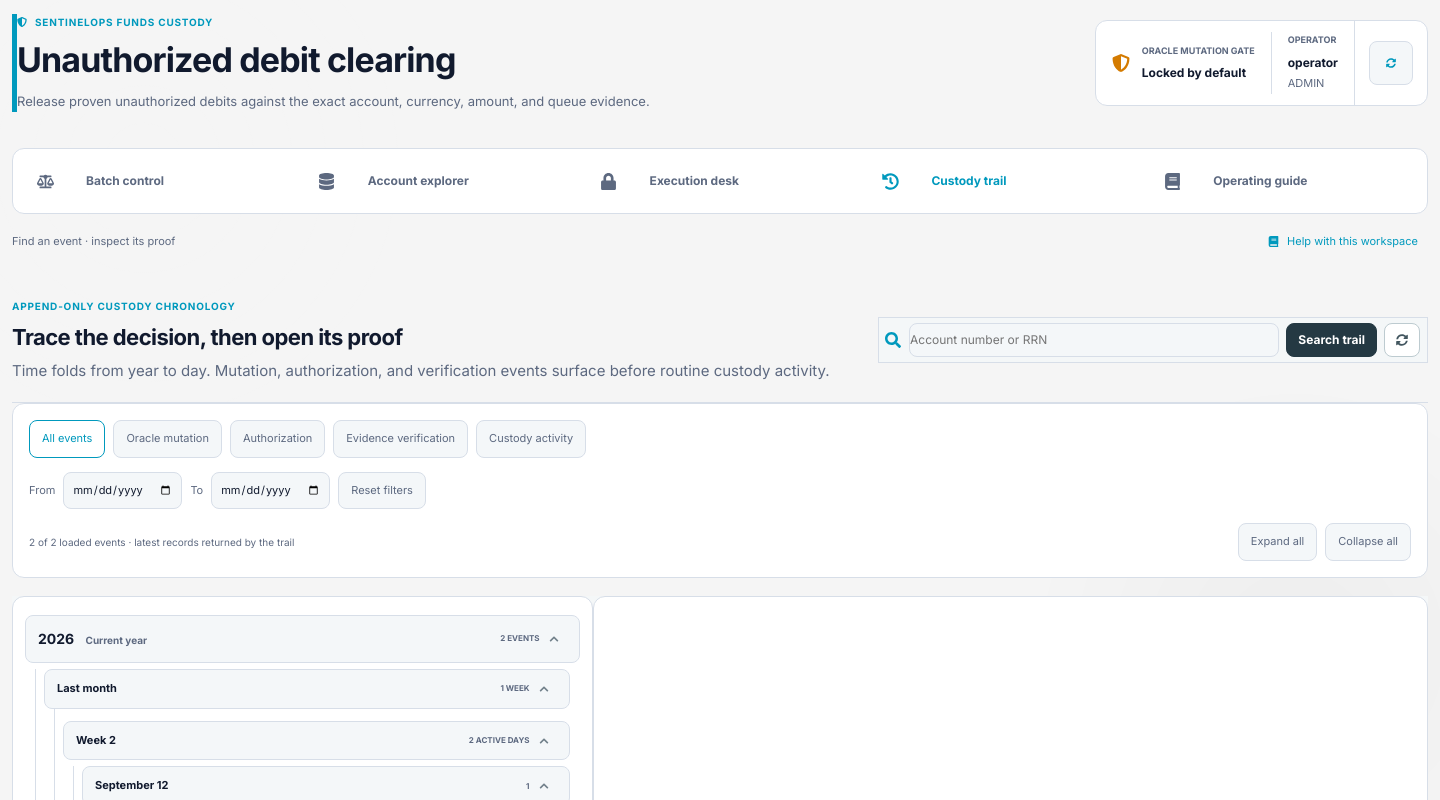
Scenario: trail filters loaded events by category and inclusive local date without reloading or mutating custody
This screenshot has width=1440, height=800.
Expected: the text "2 of 2 loaded events · latest records returned by the trail" is shown, [29, 534, 294, 550]
Click the button "Oracle mutation" at (168, 439), box [113, 420, 222, 458]
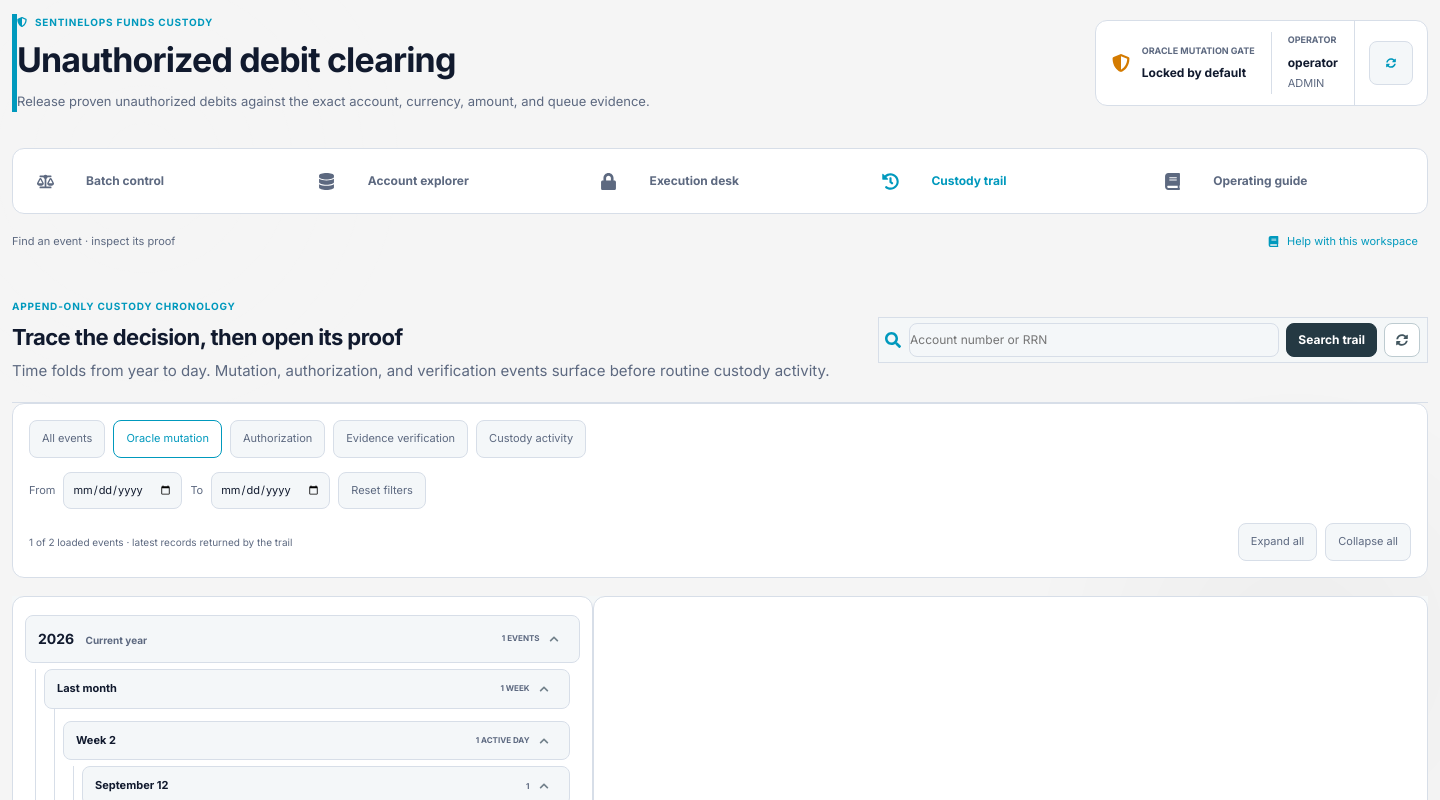
Expected: the text "1 of 2 loaded events · latest records returned by the trail" is shown, [29, 534, 292, 550]
Type "2026-09-13" into the date field named "Trail from date" at (123, 490), box [63, 472, 182, 509]
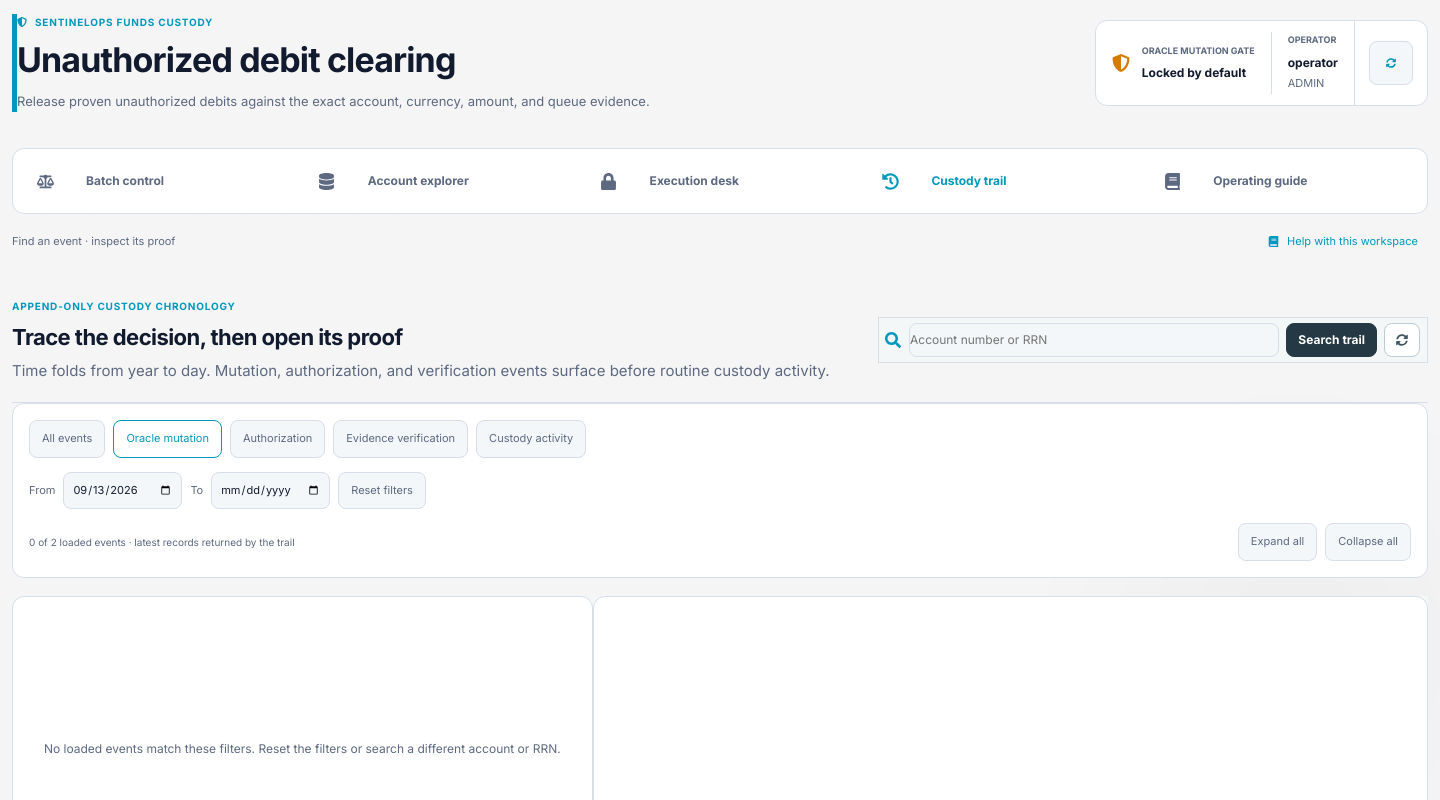
Expected: the text "No loaded events match" is shown, [44, 741, 561, 756]
Type "2026-09-12" into the date field named "Trail from date" at (123, 490), box [63, 472, 182, 509]
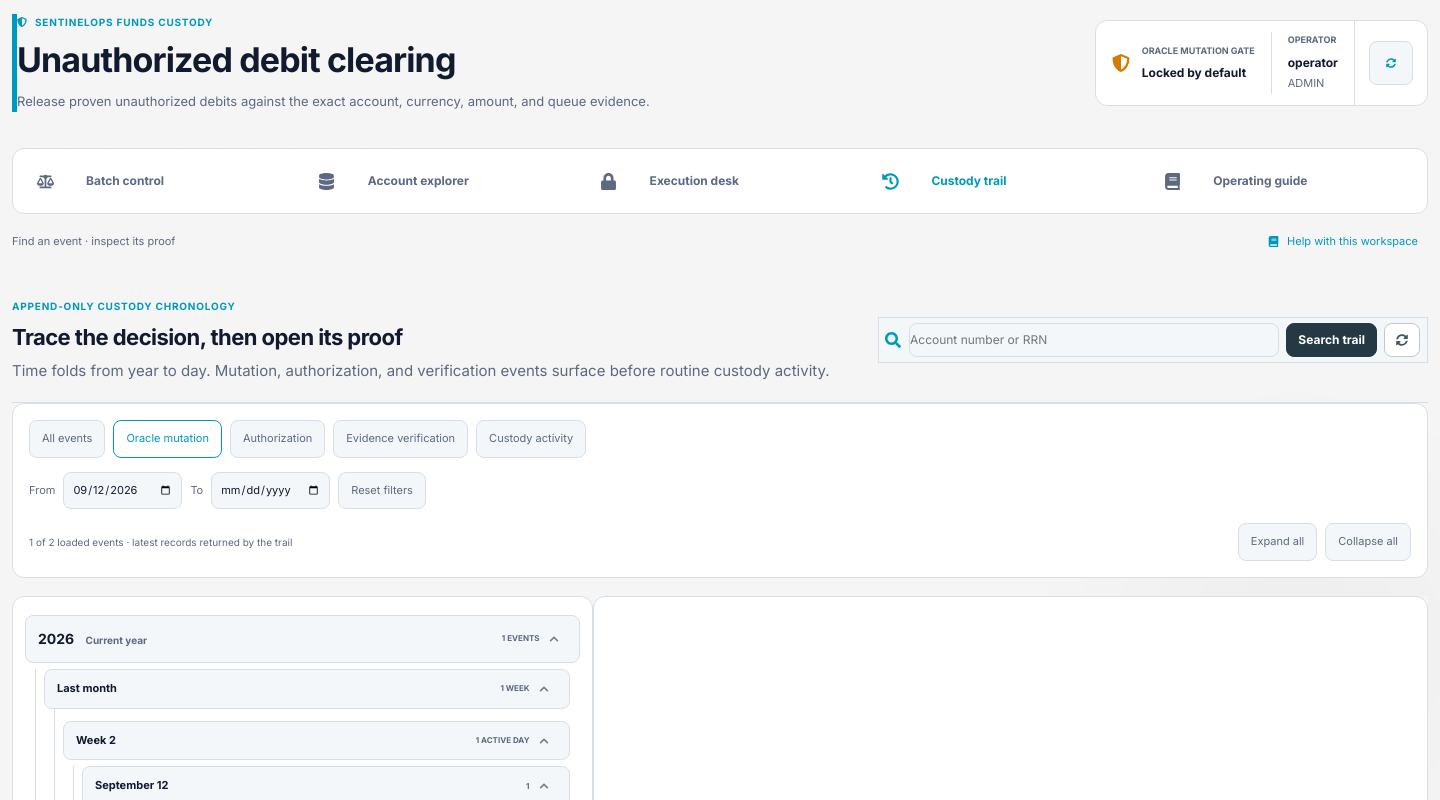
Type "2026-09-12" into the date field named "Trail to date" at (271, 490), box [211, 472, 330, 509]
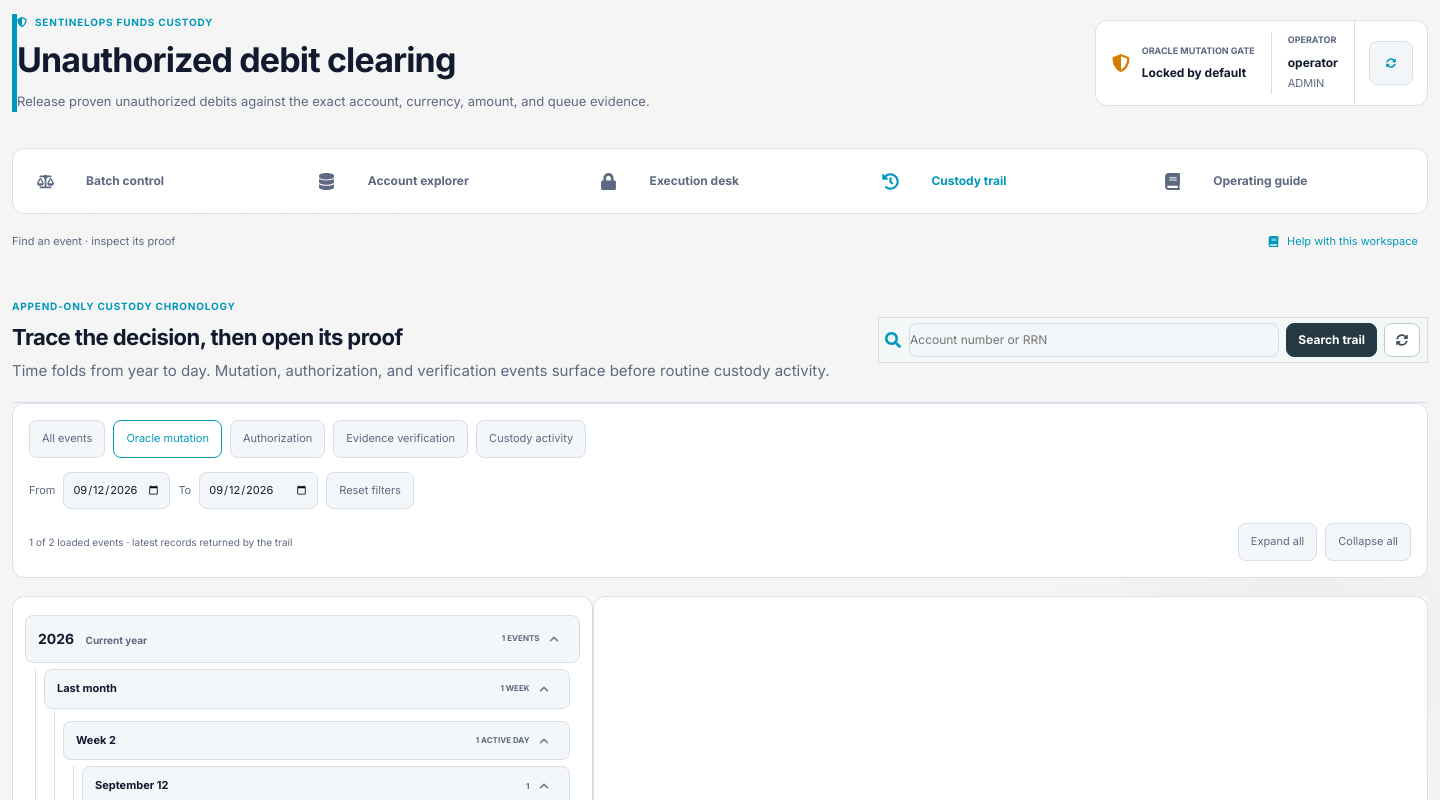
Expected: the text "1 of 2 loaded events · latest records returned by the trail" is shown, [29, 534, 292, 550]
Click the button "Reset filters" at (370, 490), box [326, 472, 414, 509]
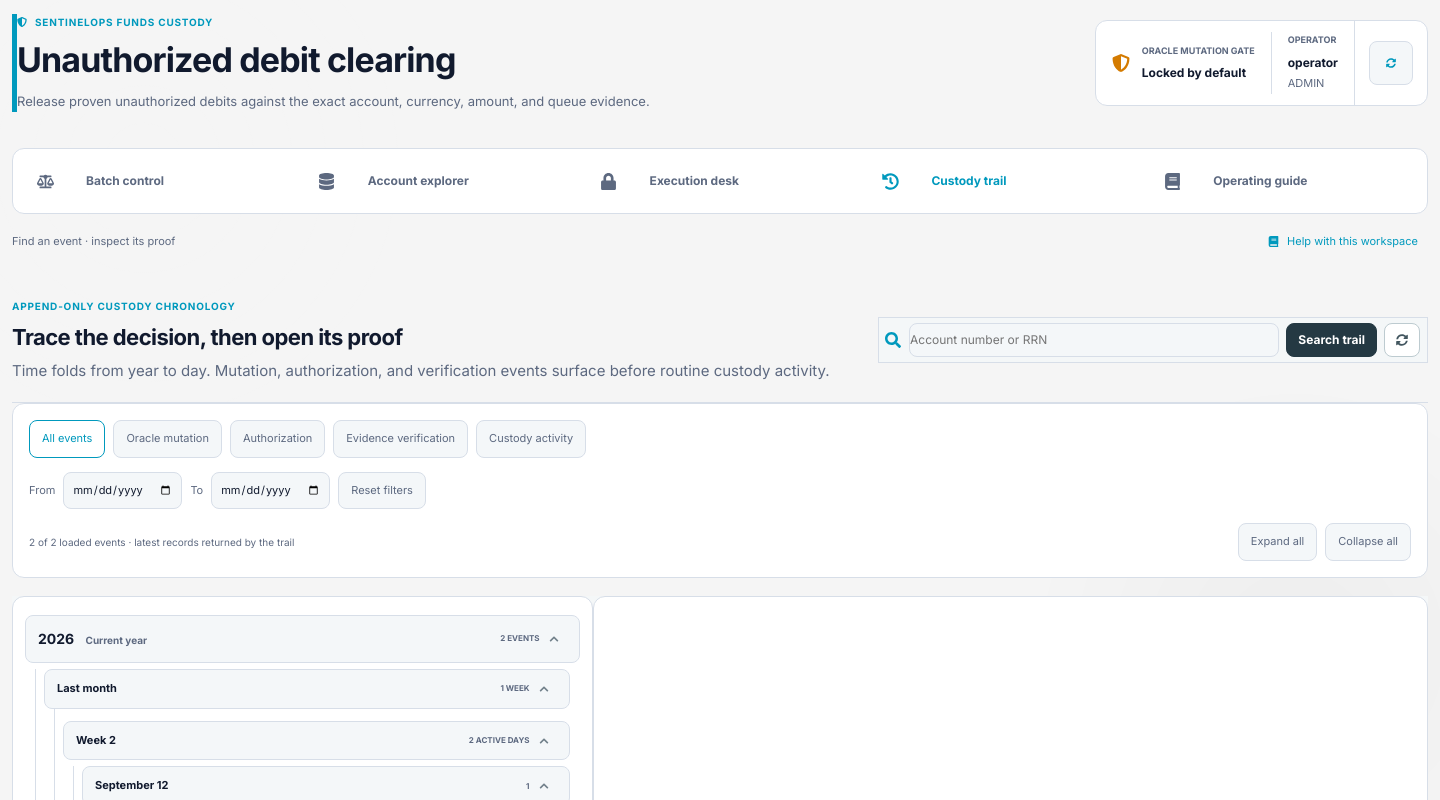
Expected: the text "2 of 2 loaded events · latest records returned by the trail" is shown, [29, 534, 294, 550]
